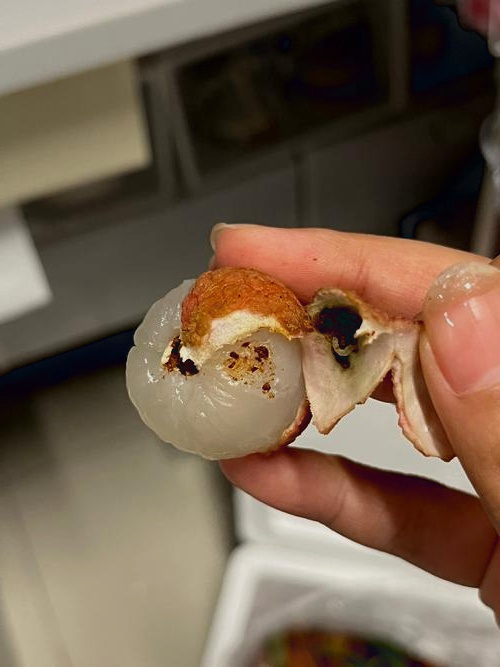Borer: (330, 321, 361, 357)
